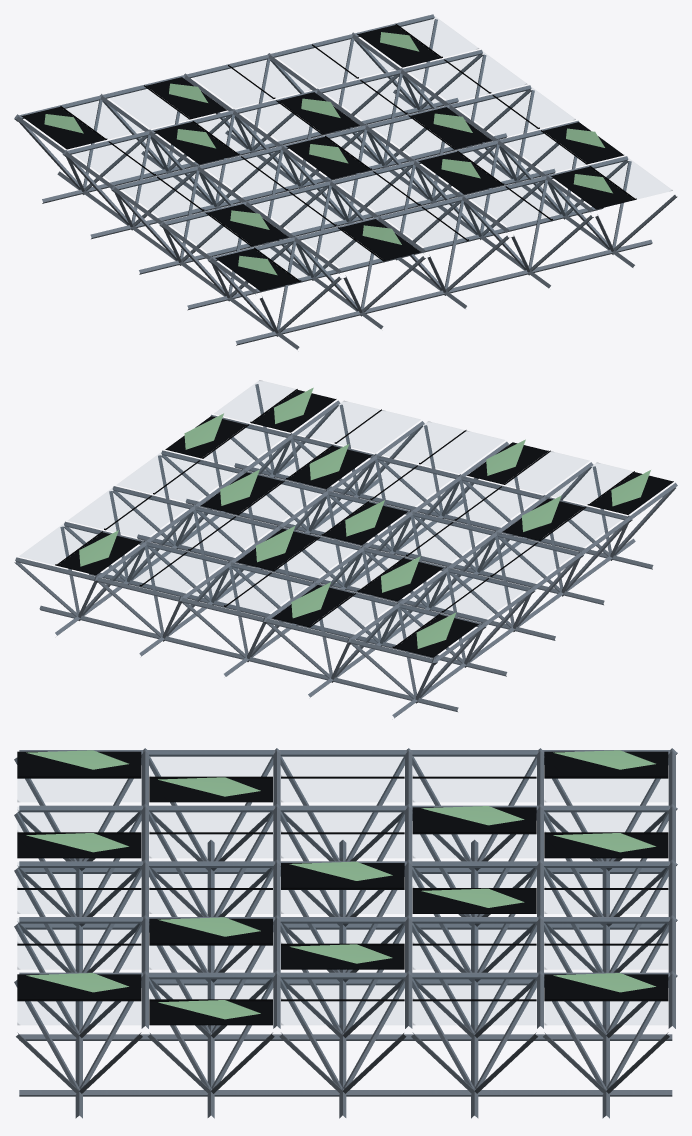
The picture shows the model from 3 angles, top to bottom: view 1: azimuth 30°, elevation 25°; view 2: azimuth 150°, elevation 25°; view 3: azimuth 270°, elevation 25°; orthographic projection. The views are drawn at different scales.
Visible parts, largest first — view 1: Space_Frame, Leaf_Infill_Panels, Leaf_Relief, Glazing_Bars; view 2: Space_Frame, Leaf_Infill_Panels, Leaf_Relief, Glazing_Bars; view 3: Space_Frame, Leaf_Infill_Panels, Leaf_Relief, Glazing_Bars.
Boxes of the visible parts, bbox=[...] form: Space_Frame: bbox=[14, 14, 677, 349]; Leaf_Infill_Panels: bbox=[21, 25, 634, 291]; Leaf_Relief: bbox=[44, 32, 612, 275]; Glazing_Bars: bbox=[60, 24, 636, 281]; Space_Frame: bbox=[14, 384, 677, 718]; Leaf_Infill_Panels: bbox=[57, 390, 673, 657]; Leaf_Relief: bbox=[79, 387, 650, 648]; Glazing_Bars: bbox=[55, 389, 634, 648]; Space_Frame: bbox=[14, 748, 677, 1118]; Leaf_Infill_Panels: bbox=[17, 751, 668, 1025]; Leaf_Relief: bbox=[26, 750, 655, 1019]; Glazing_Bars: bbox=[17, 776, 668, 1001].
Size of the model in its own units: 20.15 by 3.69 by 20.16.
5 materials, 4 textured.
